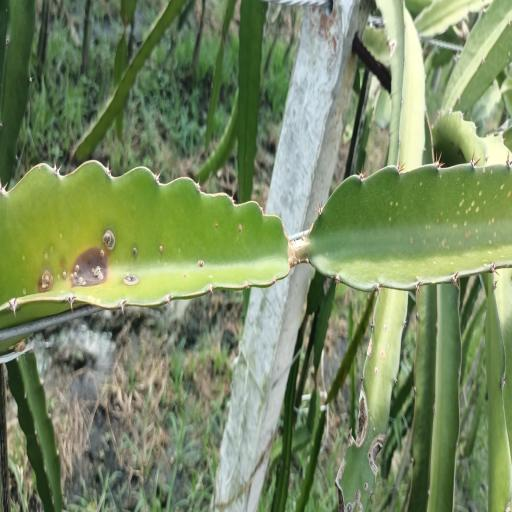stemcanker: (454, 169, 512, 261), (420, 206, 455, 265), (72, 246, 104, 291), (384, 190, 412, 231), (214, 211, 244, 248), (178, 252, 208, 288), (56, 226, 72, 284), (18, 250, 30, 304), (379, 319, 392, 366), (40, 232, 56, 264), (346, 489, 363, 512), (126, 242, 142, 262), (154, 236, 166, 262), (403, 230, 416, 252), (368, 409, 378, 436), (437, 171, 449, 191), (4, 32, 12, 56), (321, 247, 332, 263), (361, 478, 371, 492), (418, 177, 424, 198), (372, 366, 379, 382), (48, 243, 55, 258), (368, 447, 372, 468), (22, 284, 28, 296), (60, 258, 65, 270), (22, 252, 26, 264), (500, 182, 505, 191), (59, 229, 63, 240), (442, 238, 446, 249), (44, 251, 48, 261), (389, 197, 393, 207), (466, 230, 471, 238), (479, 188, 483, 198), (410, 234, 413, 246), (471, 199, 475, 208), (458, 240, 462, 247), (468, 206, 472, 213), (388, 215, 391, 224), (395, 199, 398, 208), (423, 238, 426, 246), (457, 209, 460, 217), (419, 181, 423, 187), (476, 204, 479, 212), (475, 226, 478, 234), (462, 191, 466, 197), (425, 224, 428, 232), (476, 234, 479, 241), (477, 179, 480, 186), (428, 224, 431, 231), (462, 182, 464, 190), (404, 205, 407, 210), (491, 169, 493, 176), (466, 208, 468, 214), (447, 218, 449, 224), (448, 245, 450, 250)
